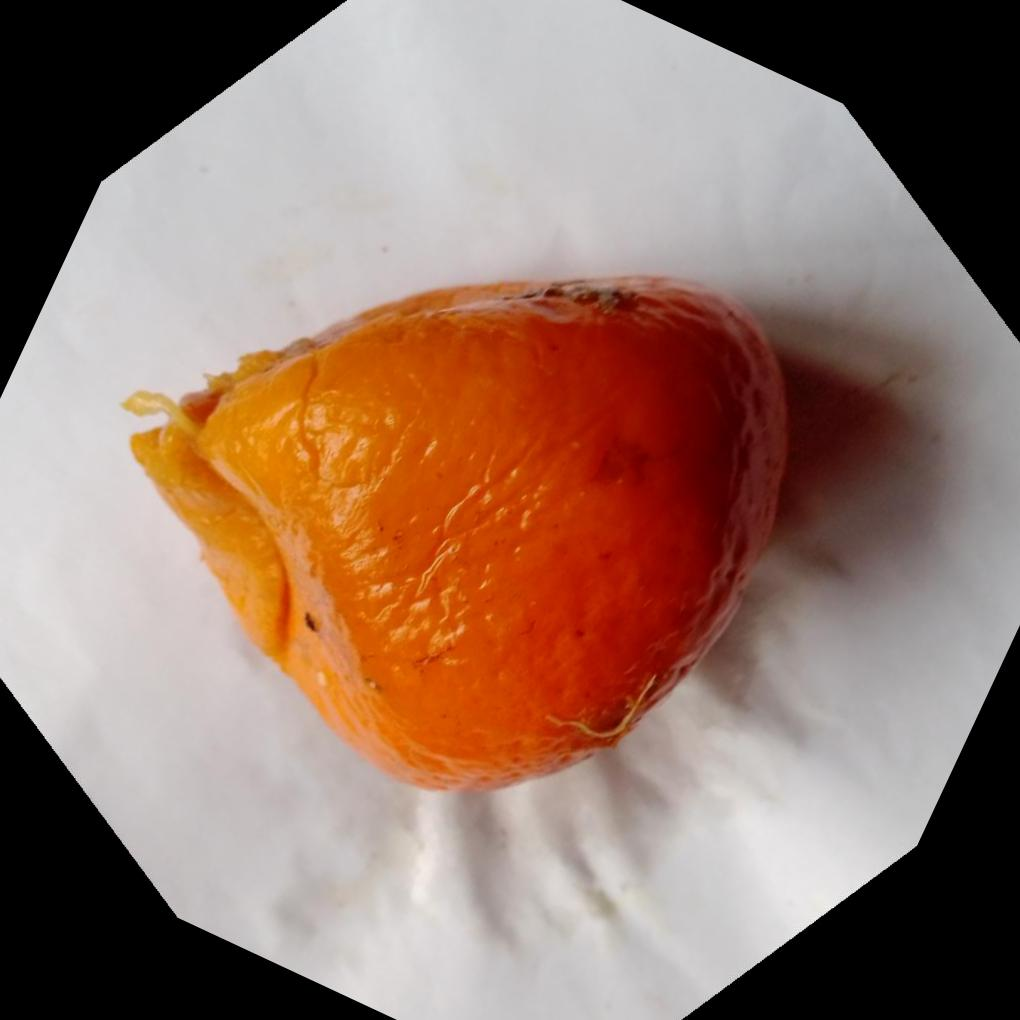FreshOrange: (127, 275, 795, 795)
